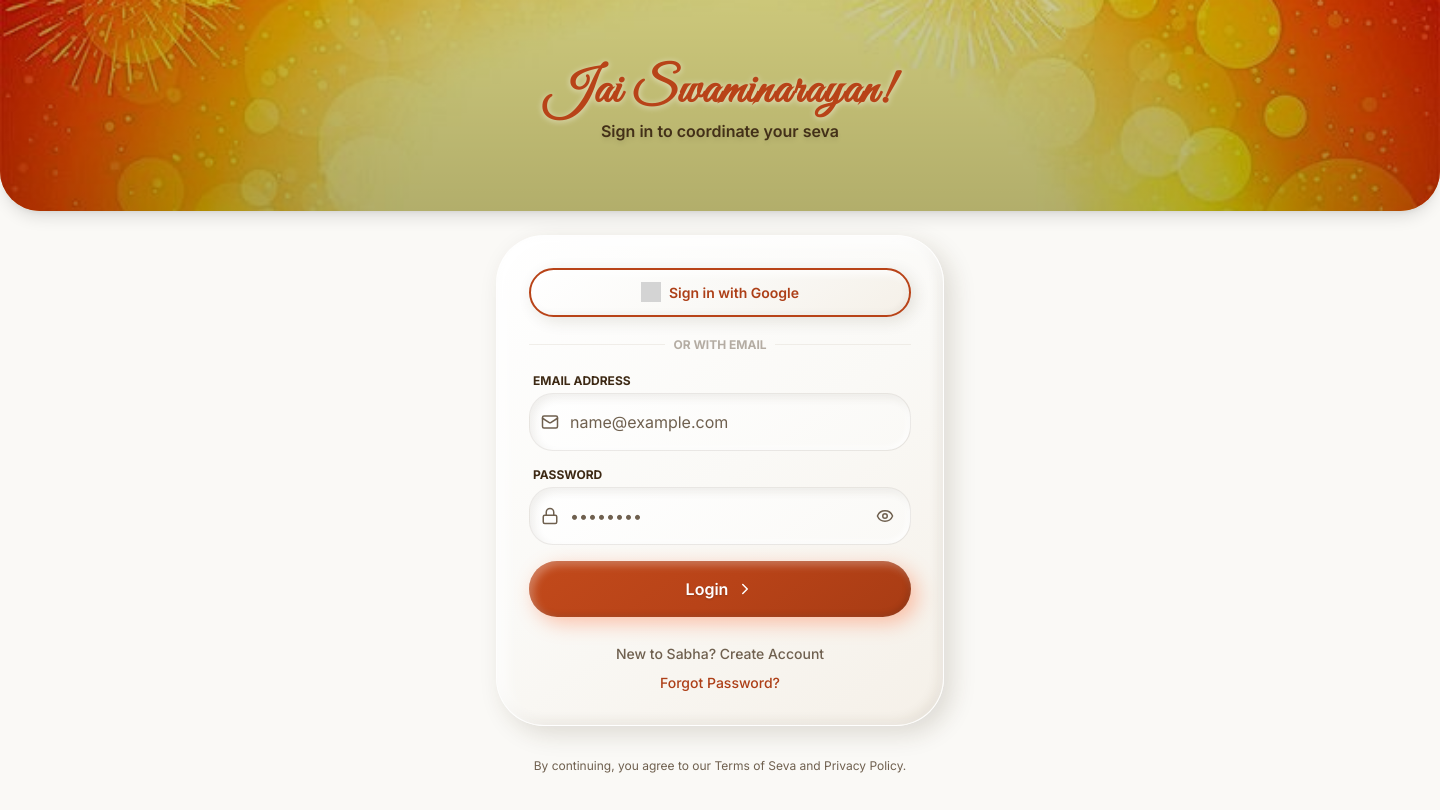
LoginScreen — the password eye is a real, named control › says what it will do, and flips when it has done it
The width and height of the screenshot is (1440, 810).
Click the button named "show password" at [885, 516], box [863,494,907,538]
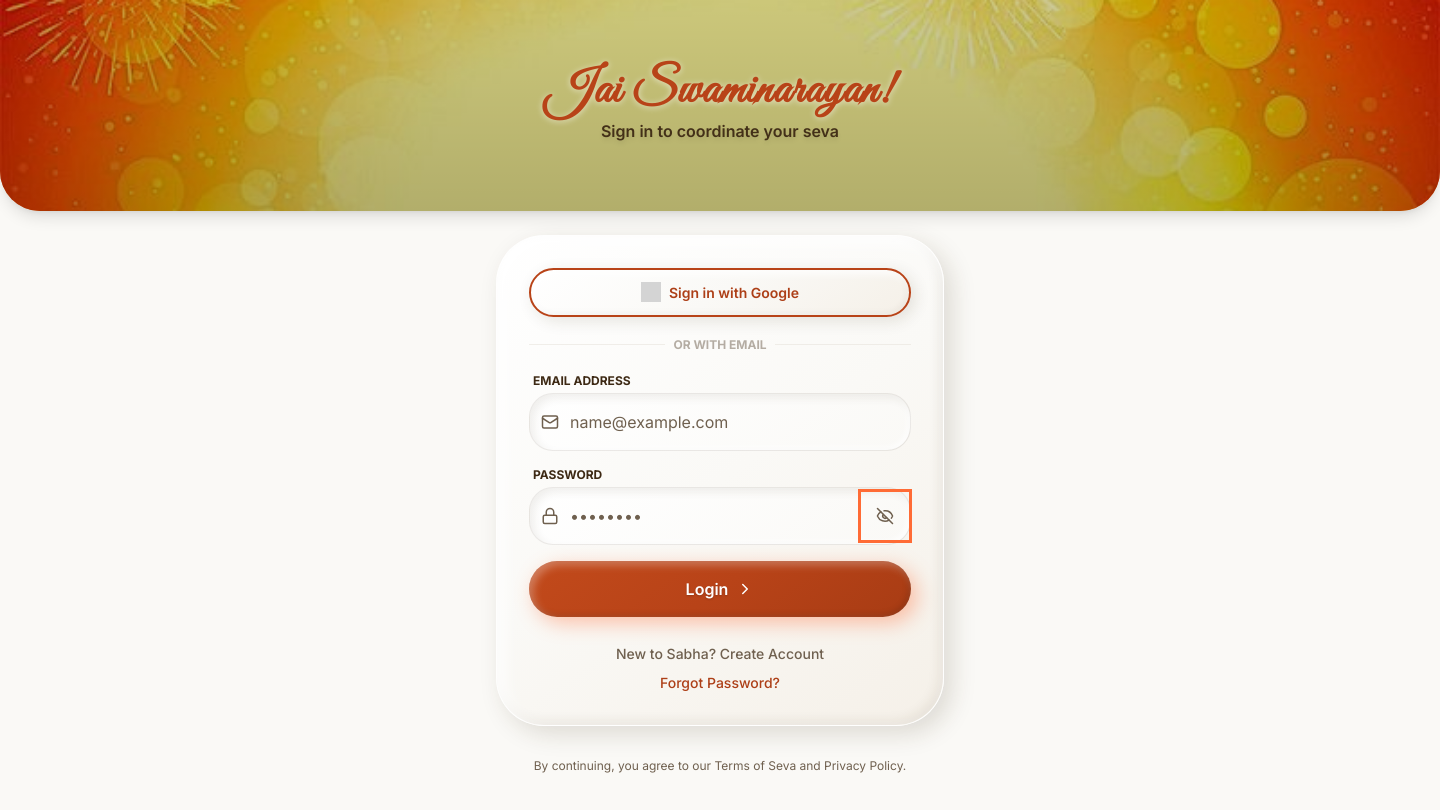
Check: the button named "hide password" is shown, box [863,494,907,538]
